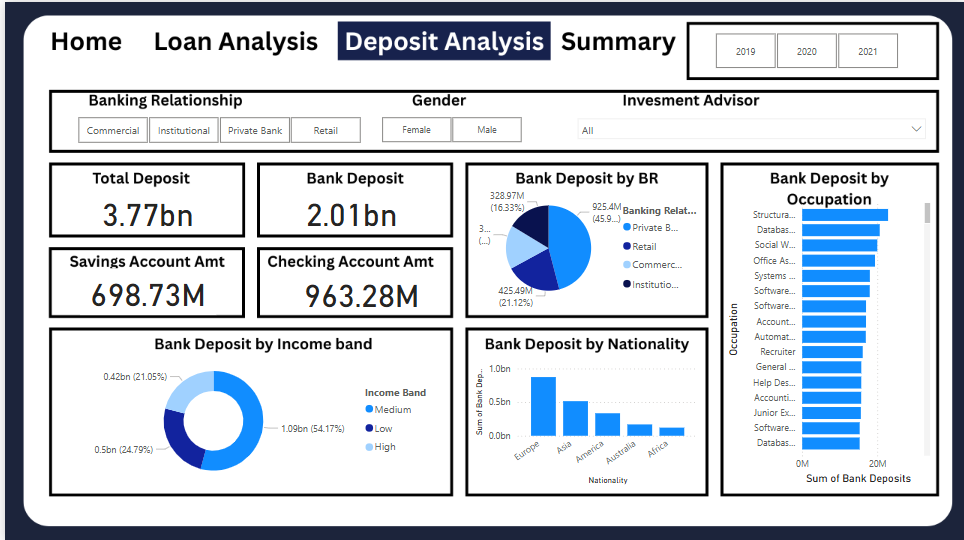

What the dashboard file says about the page in this screenshot:
{"tool":"powerbi","page":{"name":"Deposit Analysis","canvas":[1280,720],"ordinal":2},"visuals":[{"type":"card","fields":{"Values":["Banking_Clients.Total Deposit"]},"box":[100.2,255.2,181.1,49.4],"z":0},{"type":"card","fields":{"Values":["Sum(Banking_Clients.Bank Deposits)"]},"box":[371.9,255.2,181.1,49.4],"z":1000},{"type":"card","fields":{"Values":["Sum(Banking_Clients.Saving Accounts)"]},"box":[100,354.3,181.4,62.1],"z":2000},{"type":"card","fields":{"Values":["Sum(Banking_Clients.Checking Accounts)"]},"box":[385.6,359.5,181.1,56.3],"z":3000},{"type":"slicer","fields":{"Values":["Banking_Clients.Joining Year"]},"box":[921.4,35.7,292.9,60],"z":4000},{"type":"donutChart","fields":{"Category":["Banking_Clients.Income Band"],"Y":["Sum(Banking_Clients.Bank Deposits)"]},"box":[72.4,467.8,512.9,180.5],"z":5000},{"type":"pieChart","fields":{"Category":["Banking Relationship.Banking Relationship"],"Y":["Sum(Banking_Clients.Bank Deposits)"]},"box":[622.2,242.2,307.5,173.4],"z":6000},{"type":"clusteredColumnChart","fields":{"Category":["Banking_Clients.Nationality"],"Y":["Sum(Banking_Clients.Bank Deposits)"]},"box":[622.2,474.9,307.5,173.4],"z":7000},{"type":"clusteredBarChart","fields":{"Category":["Banking_Clients.Occupation"],"Y":["Sum(Banking_Clients.Bank Deposits)"]},"box":[958.2,255.3,280.2,393],"z":8000},{"type":"actionButton","box":[736.2,24.9,161.5,54.6],"z":10000},{"type":"actionButton","box":[53.4,24.9,106.9,54.6],"z":11000},{"type":"slicer","fields":{"Values":["Banking Relationship.Banking Relationship"]},"box":[72.4,146,426.3,47.5],"z":12000},{"type":"slicer","fields":{"Values":["Gender.Gender"]},"box":[476.2,146.8,236,46.7],"z":13000},{"type":"slicer","fields":{"Values":["Investment Advisor.Investment Advisor"]},"box":[753.3,145.5,484.4,46.7],"z":14000},{"type":"actionButton","box":[179.8,24.7,256.6,54.9],"z":14001}]}

Visuals, with their boxes in screenshot pixels (x1, y1, x2, y2), scaled from the page's 1280x720 canvas onto the 964x540 screenshot:
card - Banking_Clients.Total Deposit: 75,191,212,228
card - Sum(Banking_Clients.Bank Deposits): 280,191,416,228
card - Sum(Banking_Clients.Saving Accounts): 75,266,212,312
card - Sum(Banking_Clients.Checking Accounts): 290,270,427,312
slicer - Banking_Clients.Joining Year: 694,27,915,72
donutChart - Banking_Clients.Income Band x Sum(Banking_Clients.Bank Deposits): 55,351,441,486
pieChart - Banking Relationship.Banking Relationship x Sum(Banking_Clients.Bank Deposits): 469,182,700,312
clusteredColumnChart - Banking_Clients.Nationality x Sum(Banking_Clients.Bank Deposits): 469,356,700,486
clusteredBarChart - Banking_Clients.Occupation x Sum(Banking_Clients.Bank Deposits): 722,191,933,486
actionButton: 554,19,676,60
actionButton: 40,19,121,60
slicer - Banking Relationship.Banking Relationship: 55,110,376,145
slicer - Gender.Gender: 359,110,536,145
slicer - Investment Advisor.Investment Advisor: 567,109,932,144
actionButton: 135,19,329,60
